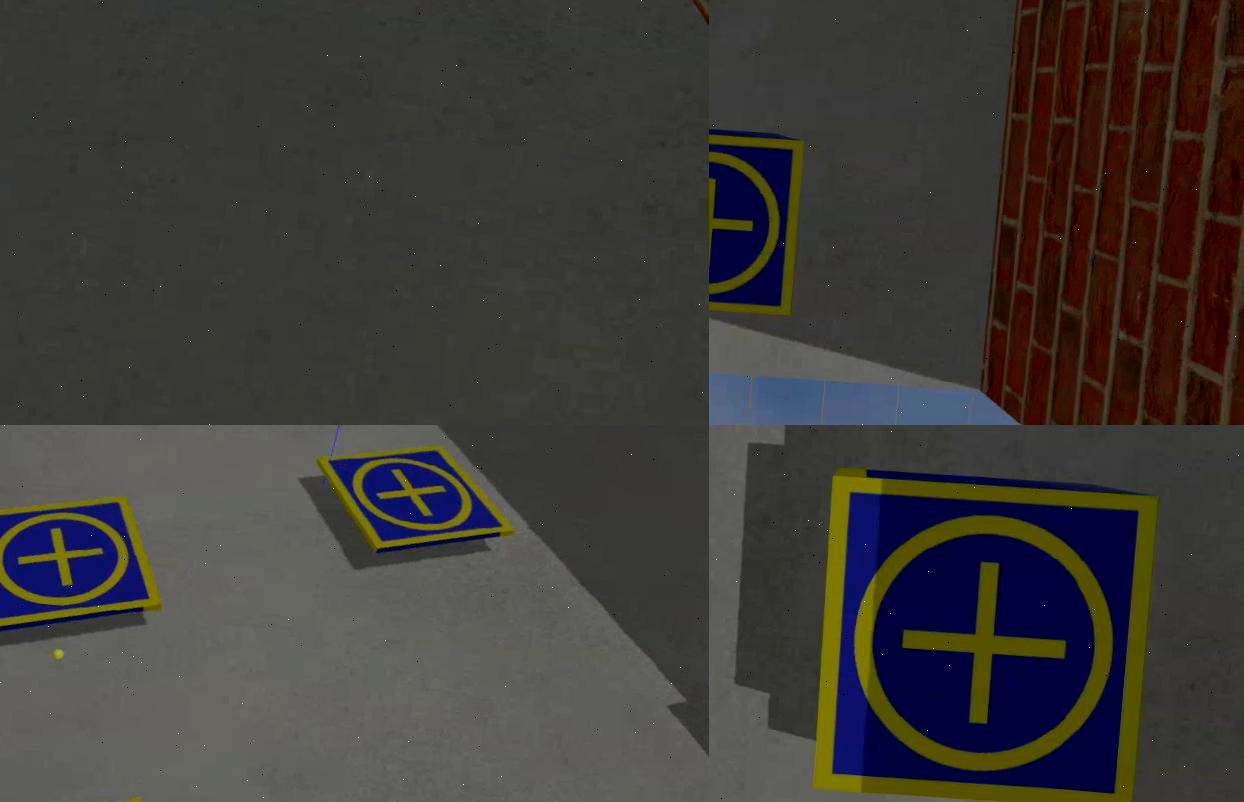small_base: (807, 472, 1161, 802), (309, 435, 524, 572), (0, 482, 173, 650), (710, 123, 807, 322)
